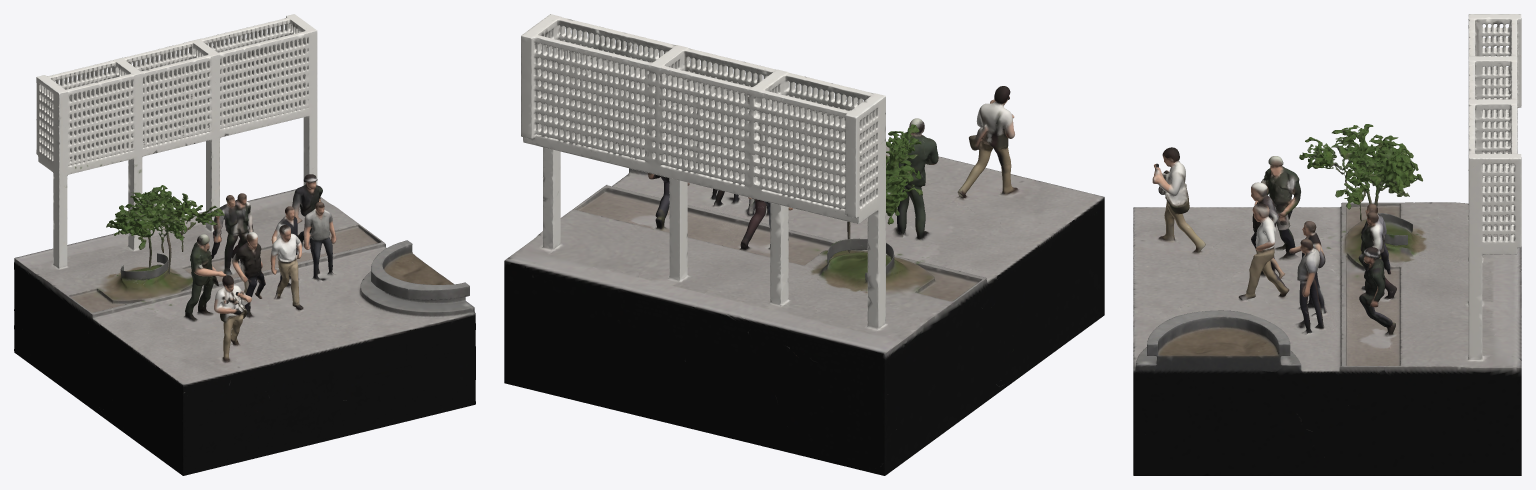
Rendered from danh_chiem_dai_su_my.glb.
3 views of the same model, side by side, from view 1: azimuth 30°, elevation 25°; view 2: azimuth 150°, elevation 25°; view 3: azimuth 270°, elevation 25° (orthographic). The views are drawn at different scales.
Size of the model in its own units: 1.9 by 1.68 by 1.9.
Materials: 1 (1 with a texture image).
